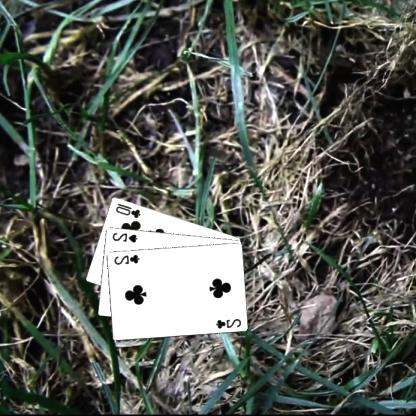10C: (115, 200, 144, 219)
2C: (113, 251, 142, 266), (215, 316, 244, 330)
2S: (112, 230, 140, 244)
